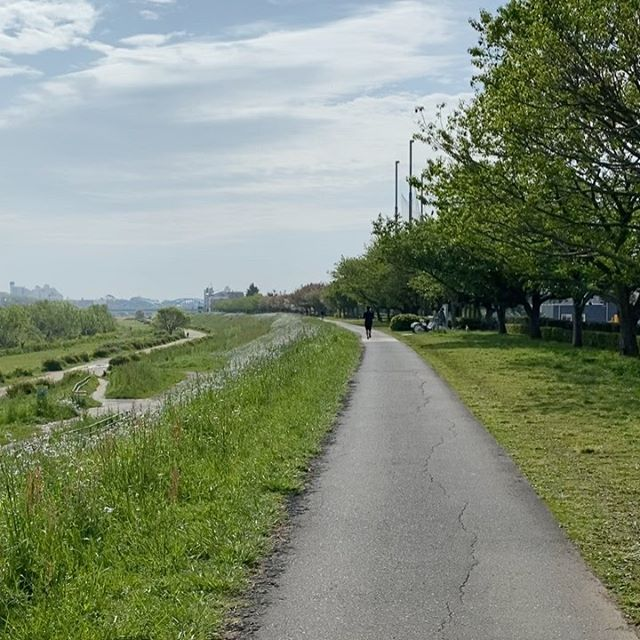grass: (1, 303, 318, 640), (441, 325, 640, 601)
pathway: (260, 328, 622, 629)
sky: (1, 1, 487, 299)
tree: (471, 1, 640, 343), (383, 217, 510, 325)
